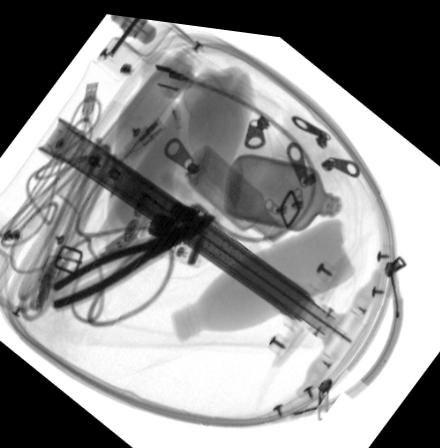Pliers: (51, 207, 218, 308)
